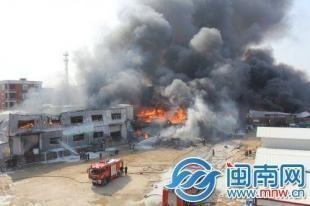fire: (136, 103, 188, 123)
